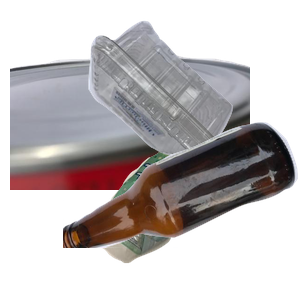glass: (63, 120, 300, 300)
metal: (10, 52, 250, 232)
plastic: (86, 18, 300, 171)
trash: (84, 133, 292, 300)
